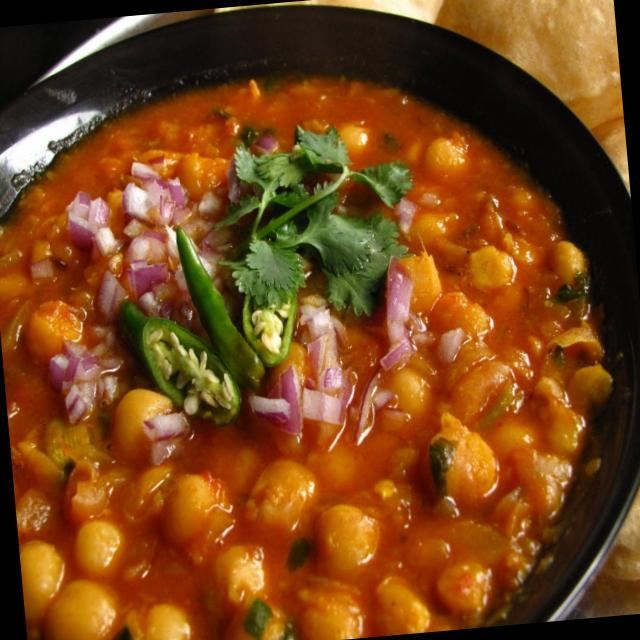Chole: (0, 43, 631, 640)
